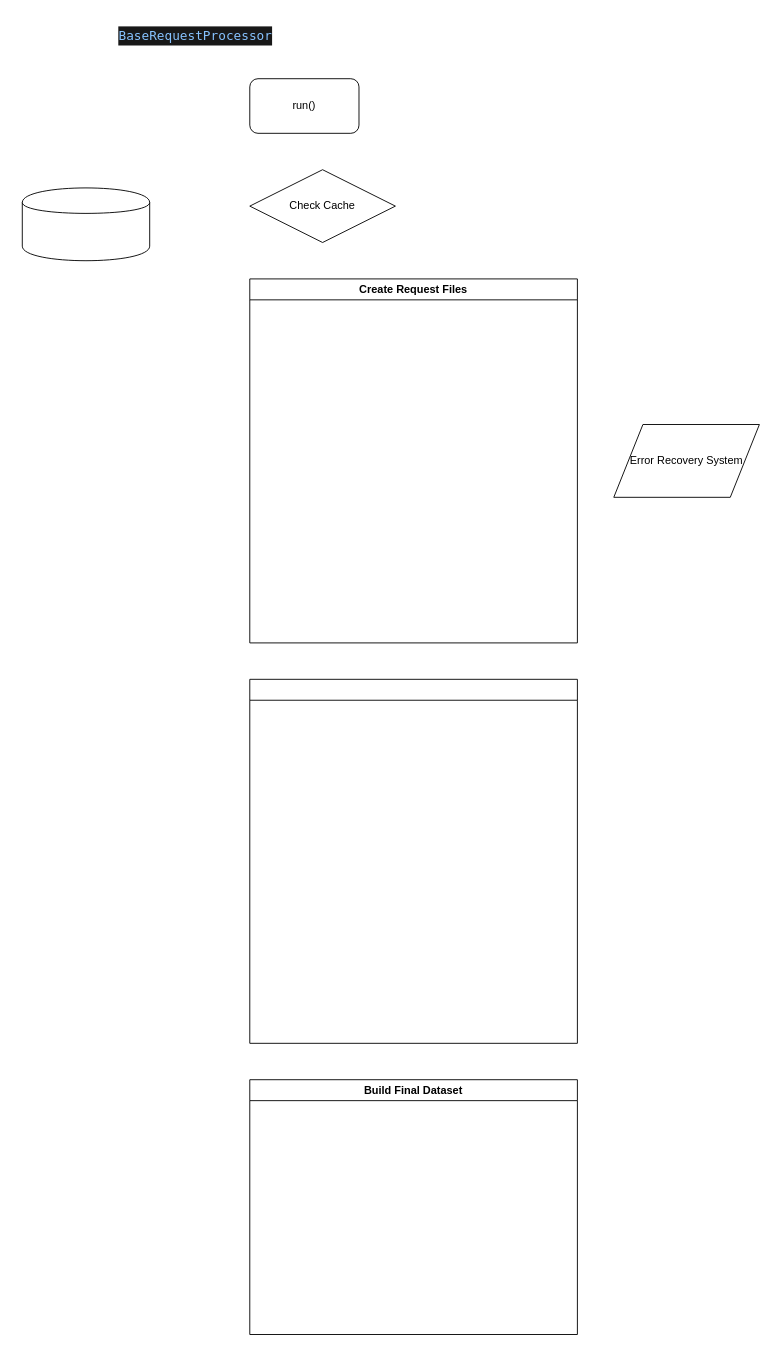
The diagram is 775 pixels wide and 1350 high, and some of its shapes have lost their labels. The shapes that lost their labels are listed below. From the top down, each one's centre as x and y in pixels, then its label:
At (x=85, y=224): "Load Cached Dataset".
At (x=413, y=860): "Process Responses".
